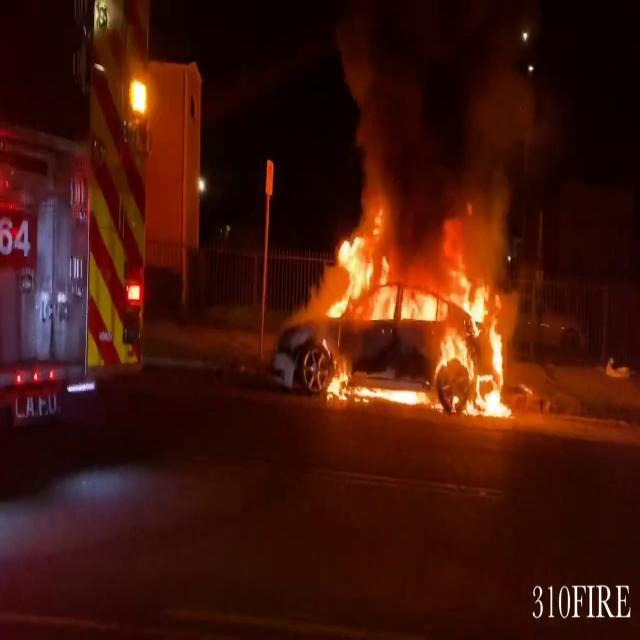Fire: (314, 204, 518, 418)
Smoke: (330, 0, 529, 261)
